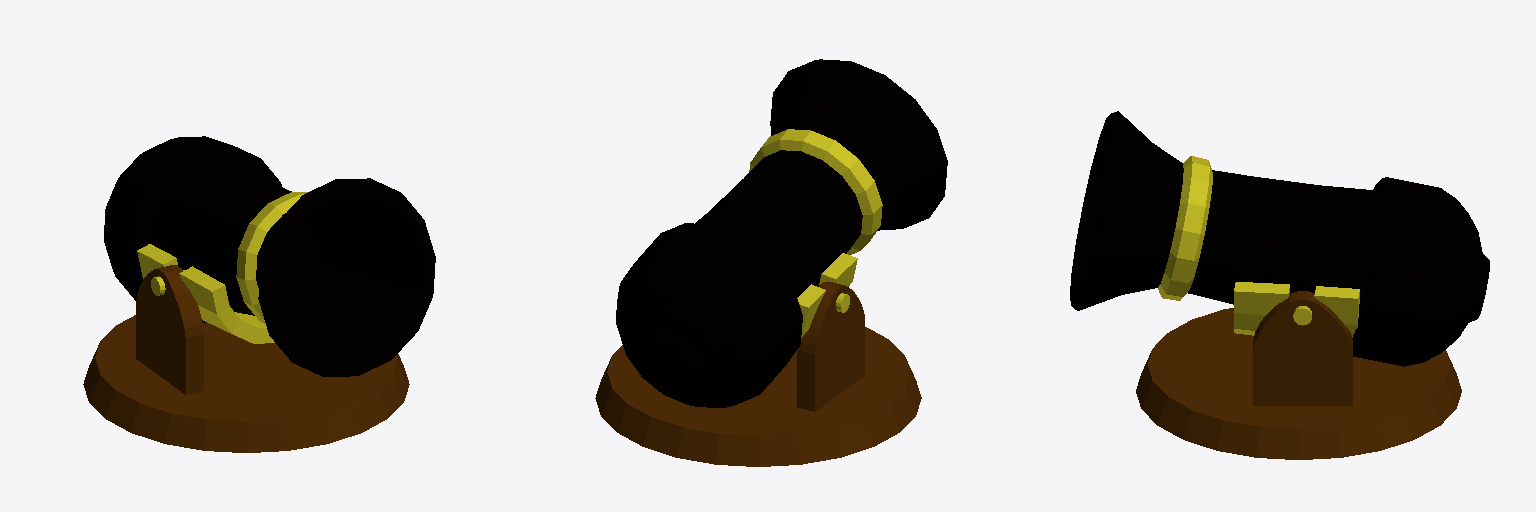
Rendered from cannon.obj.
The picture shows the model from 3 angles: view 1: azimuth 30°, elevation 25°; view 2: azimuth 150°, elevation 25°; view 3: azimuth 270°, elevation 25°; orthographic projection.
Parts seen in each view (by area): view 1: Cylinder.004, Cylinder, Cube, Cylinder.002; view 2: Cylinder.004, Cylinder, Cube, Cylinder.002; view 3: Cylinder.004, Cylinder, Cube, Cylinder.002.
Boxes of the visible parts, x1,y1,x2,y2 form: Cylinder.004: [104, 136, 435, 376]; Cylinder: [83, 315, 409, 452]; Cube: [136, 265, 203, 394]; Cylinder.002: [137, 244, 274, 343]; Cylinder.004: [616, 59, 947, 407]; Cylinder: [595, 327, 921, 466]; Cube: [797, 281, 864, 411]; Cylinder.002: [797, 253, 857, 337]; Cylinder.004: [1070, 111, 1489, 366]; Cylinder: [1136, 308, 1461, 459]; Cube: [1253, 291, 1352, 405]; Cylinder.002: [1234, 282, 1359, 337].
Bounding box in the file's own units: 1.68 × 1.53 × 2.16.